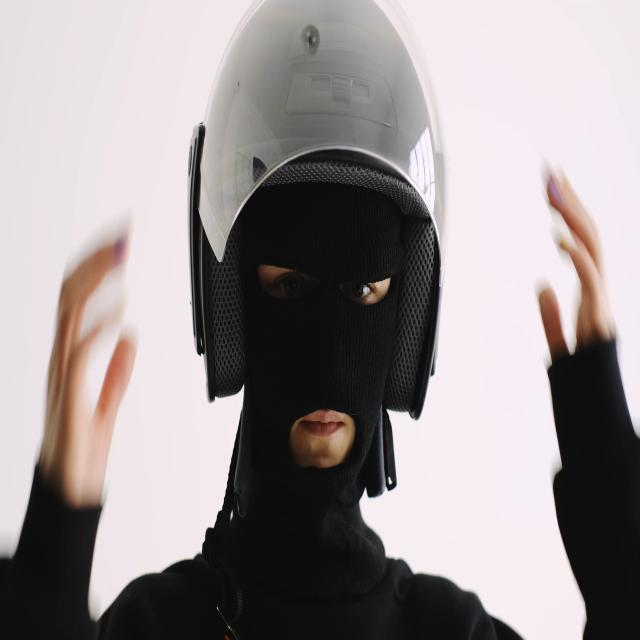Helmet_Wearer: (173, 0, 449, 640)
Person: (0, 0, 640, 640)
